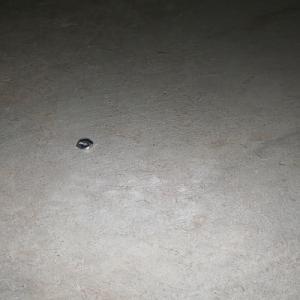Nut: (75, 140, 93, 151)
